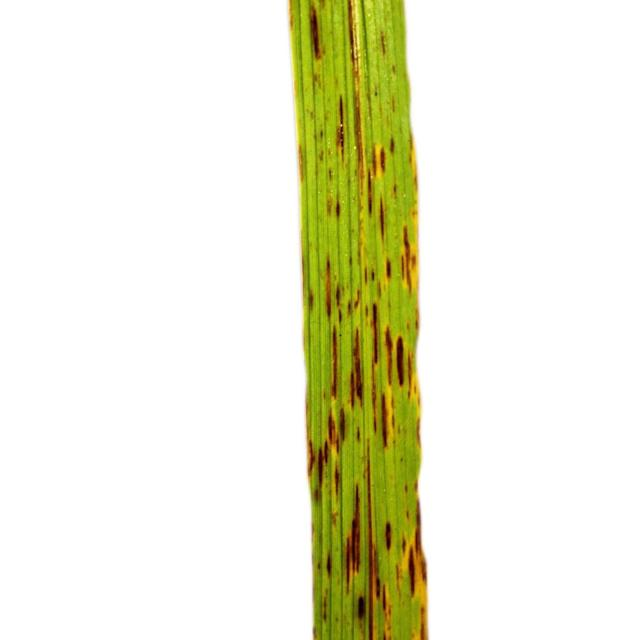Narrow brown: (232, 1, 466, 640)
